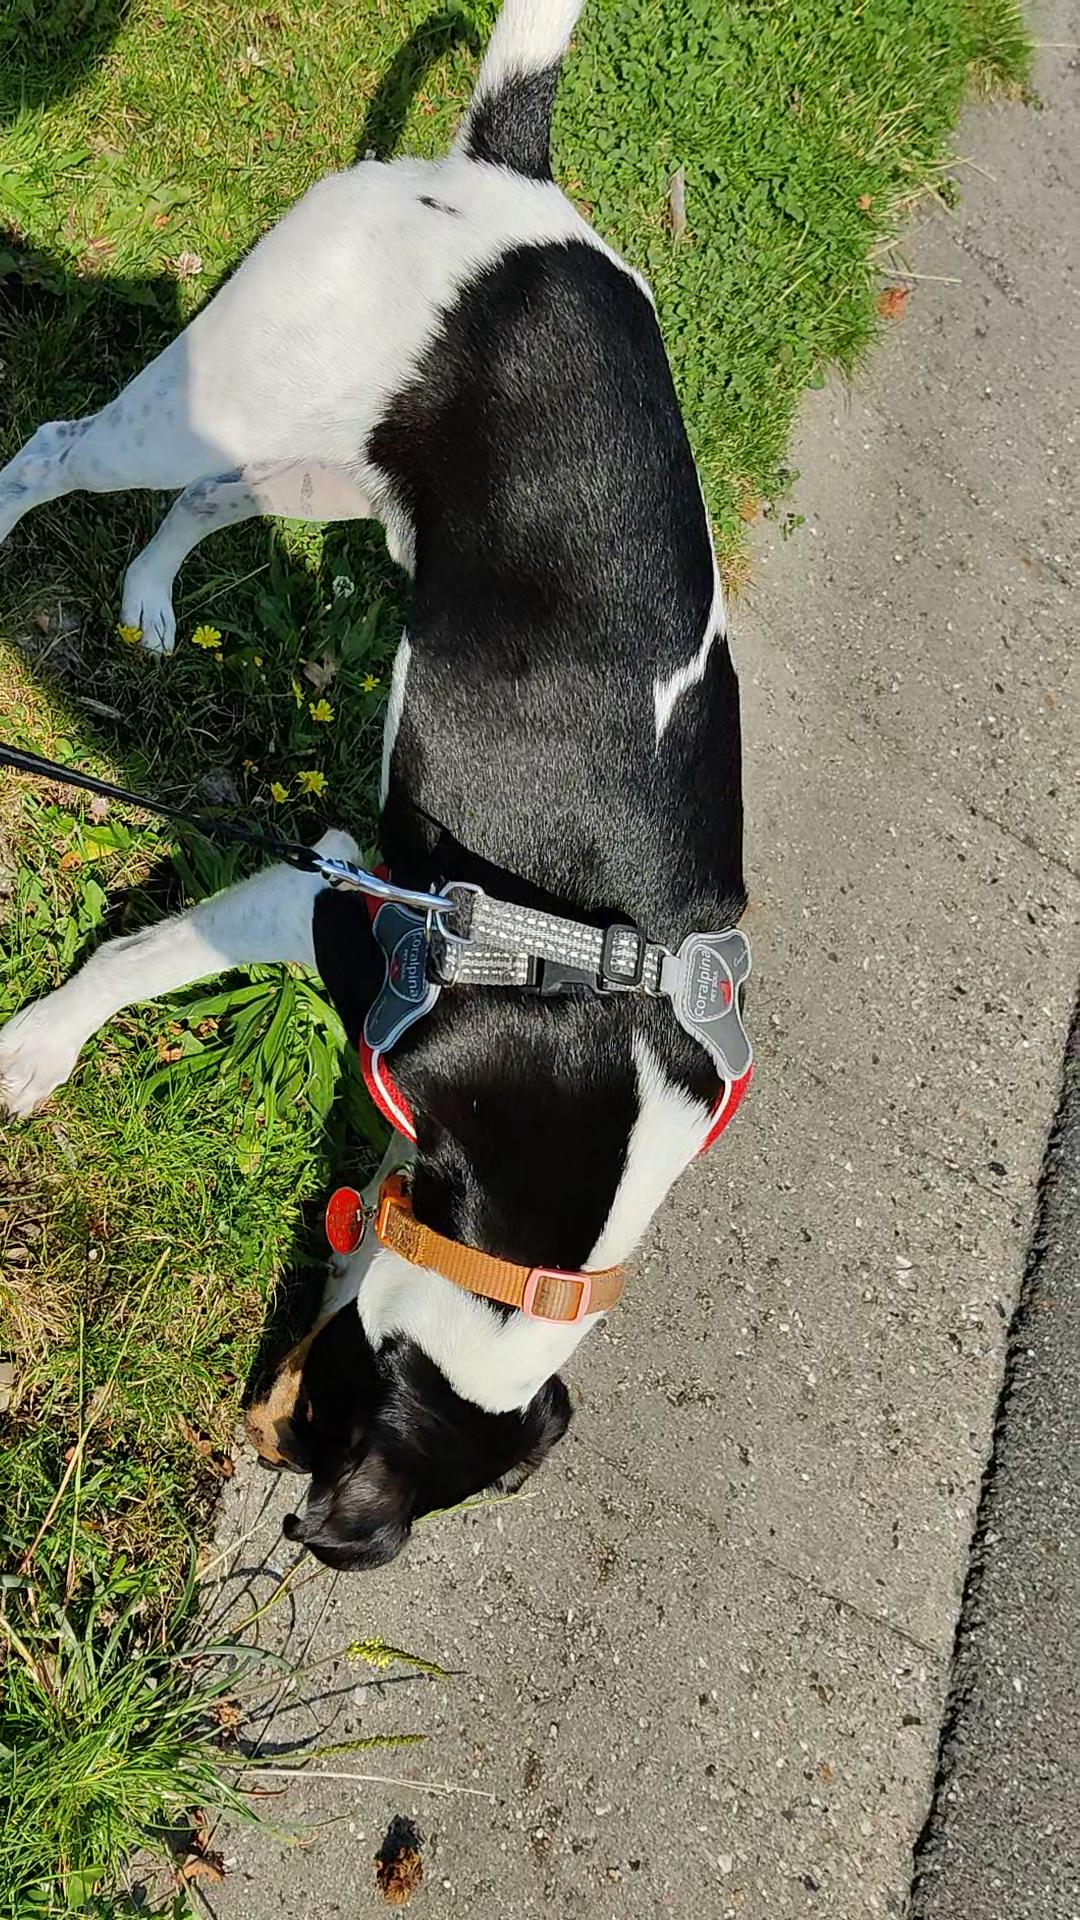Dog: (0, 0, 832, 1600)
